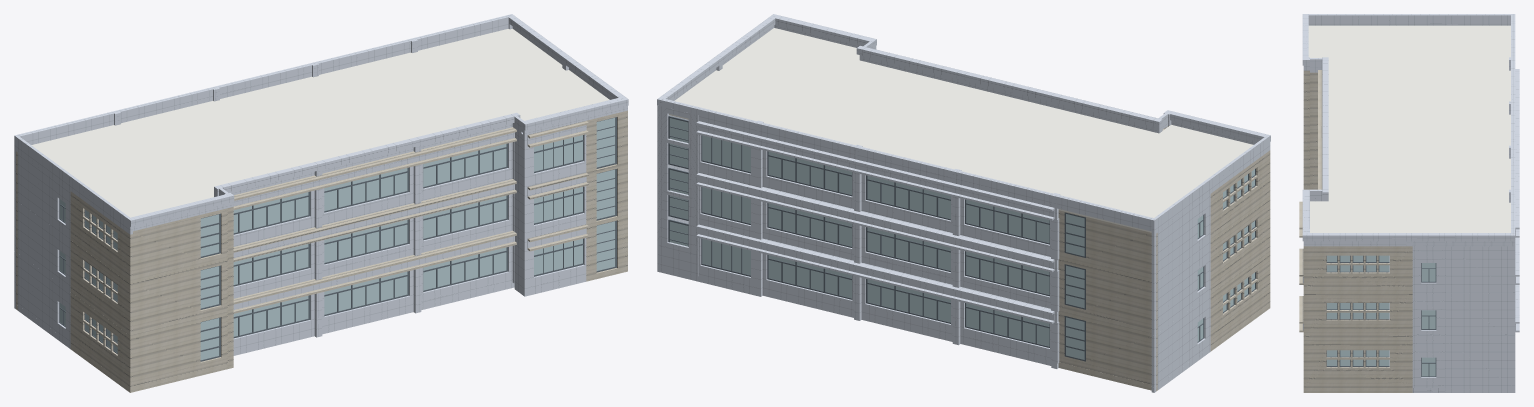
File: bangonglou3.glb
3 views of the same model, side by side, from view 1: azimuth 30°, elevation 25°; view 2: azimuth 150°, elevation 25°; view 3: azimuth 270°, elevation 25° (orthographic). The views are drawn at different scales.
Visible parts, largest first — view 1: Line01, Rectangle450, Rectangle49, Rectangle52, Rectangle44, Rectangle30, Rectangle18, Rectangle06, Rectangle78, Rectangle116, Rectangle132, Rectangle135 (+57 smaller); view 2: Line01, Rectangle450, Rectangle273, Rectangle232, Rectangle191, Rectangle194, Rectangle220, Rectangle208, Rectangle186, Rectangle116, Rectangle135, Rectangle132 (+53 smaller); view 3: Line01, Rectangle291, Rectangle296, Rectangle299, Rectangle310, Rectangle309, Rectangle311, Rectangle366, Rectangle457, Rectangle305, Rectangle300, Rectangle308 (+22 smaller).
Part boxes in pixels (bbox=[...]): Line01: bbox=[31, 28, 609, 217]; Rectangle450: bbox=[14, 14, 514, 144]; Rectangle49: bbox=[128, 260, 227, 335]; Rectangle52: bbox=[128, 312, 227, 386]; Rectangle44: bbox=[128, 208, 227, 283]; Rectangle30: bbox=[233, 231, 512, 350]; Rectangle18: bbox=[233, 179, 512, 298]; Rectangle06: bbox=[233, 127, 512, 246]; Rectangle78: bbox=[586, 110, 627, 281]; Rectangle116: bbox=[214, 112, 520, 195]; Rectangle132: bbox=[70, 240, 132, 335]; Rectangle135: bbox=[70, 292, 132, 387]; Line01: bbox=[669, 28, 1253, 232]; Rectangle450: bbox=[657, 97, 1156, 231]; Rectangle273: bbox=[657, 105, 698, 276]; Rectangle232: bbox=[762, 238, 1051, 360]; Rectangle191: bbox=[1058, 259, 1157, 333]; Rectangle194: bbox=[1058, 311, 1157, 385]; Rectangle220: bbox=[762, 187, 1050, 308]; Rectangle208: bbox=[762, 150, 1050, 256]; Rectangle186: bbox=[1058, 210, 1157, 282]; Rectangle116: bbox=[856, 45, 1162, 127]; Rectangle135: bbox=[1210, 252, 1268, 345]; Rectangle132: bbox=[1210, 200, 1268, 293]; Line01: bbox=[1308, 25, 1510, 232]; Rectangle291: bbox=[1303, 246, 1412, 293]; Rectangle296: bbox=[1303, 293, 1412, 340]; Rectangle299: bbox=[1303, 340, 1412, 387]; Rectangle310: bbox=[1445, 293, 1515, 340]; Rectangle309: bbox=[1445, 246, 1515, 293]; Rectangle311: bbox=[1445, 340, 1515, 387]; Rectangle366: bbox=[1308, 14, 1510, 25]; Rectangle457: bbox=[1302, 233, 1515, 241]; Rectangle305: bbox=[1412, 293, 1445, 340]; Rectangle300: bbox=[1412, 246, 1445, 293]; Rectangle308: bbox=[1412, 340, 1445, 387].
Bounding box in the file's own units: 0.0348 × 0.0115 × 0.0146.
5 materials, 2 textured.
